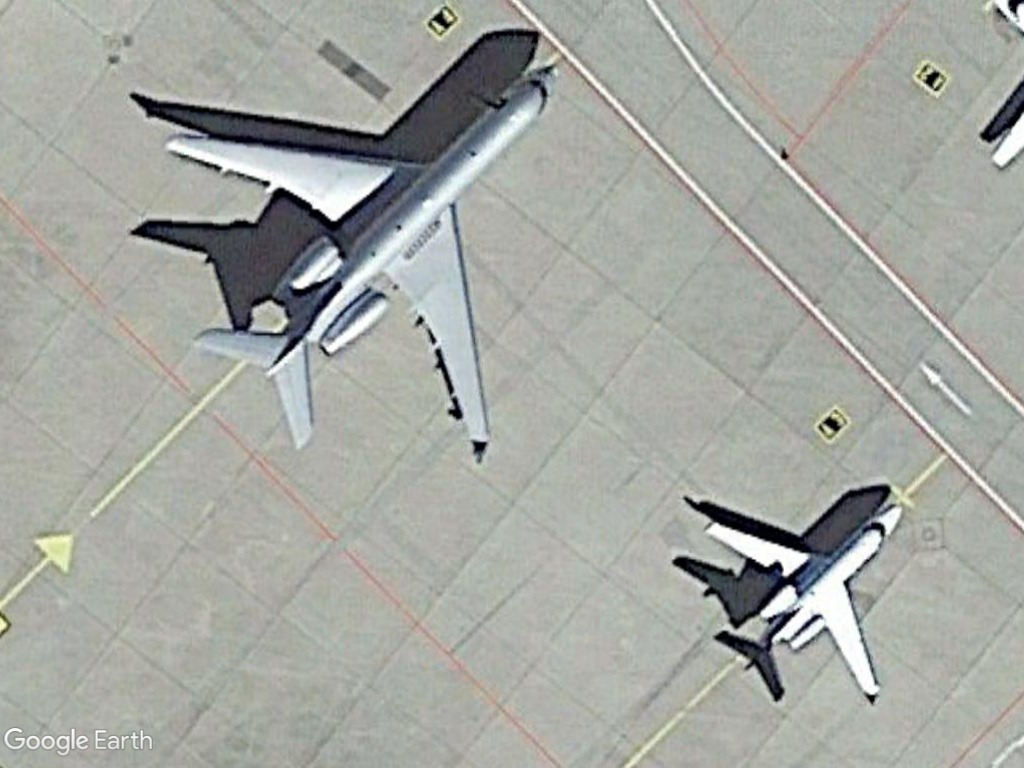chartered: (161, 59, 564, 473), (699, 498, 909, 708)
